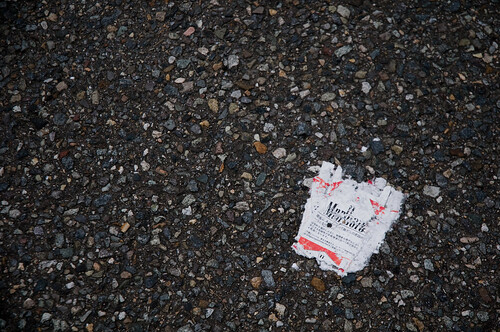trash: (247, 134, 422, 307)
